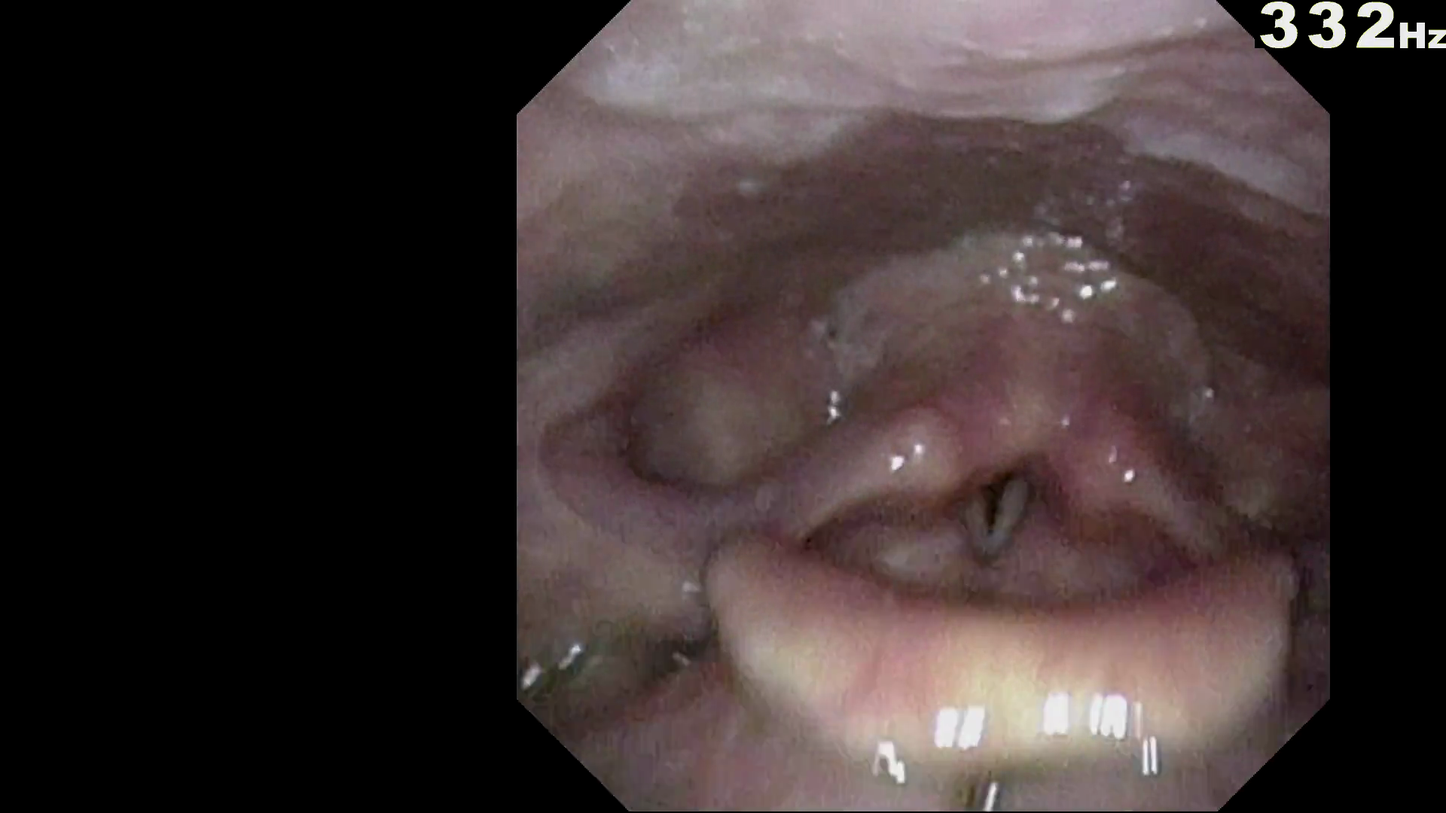epiglottis: (688, 497, 1310, 716)
trachea: (941, 421, 1083, 580)
